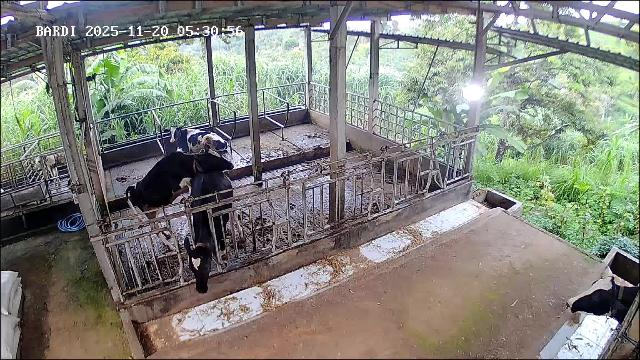mounting: (125, 149, 235, 254)
